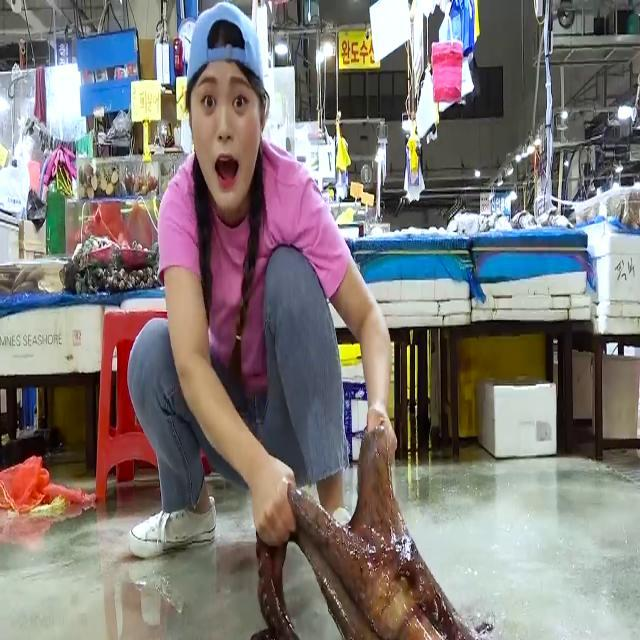octopus: (253, 431, 490, 640)
